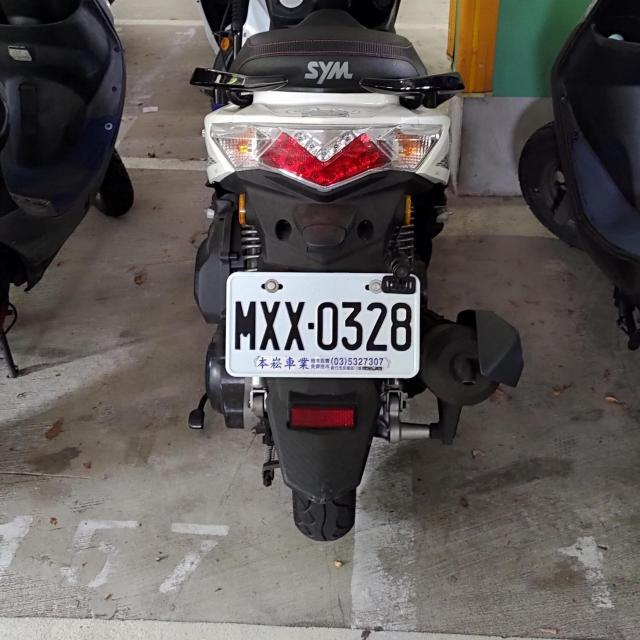W: (226, 271, 420, 380)
